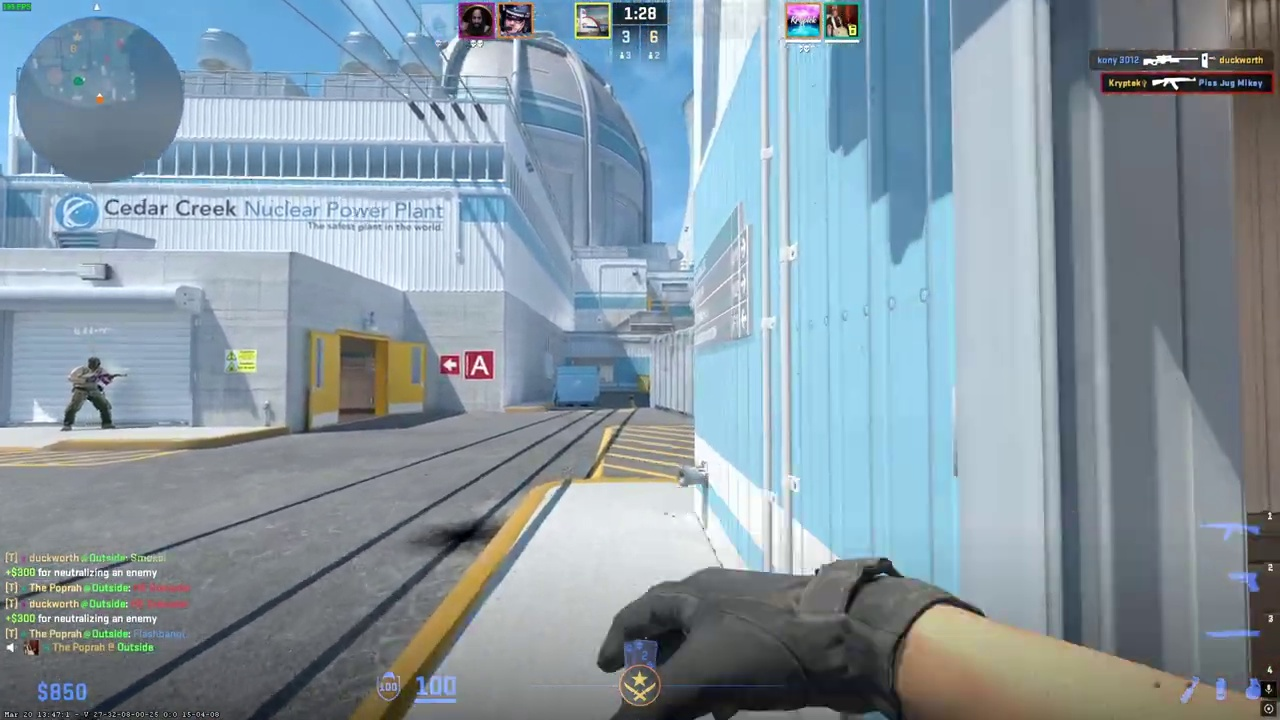Terrorist: (63, 356, 117, 431)
